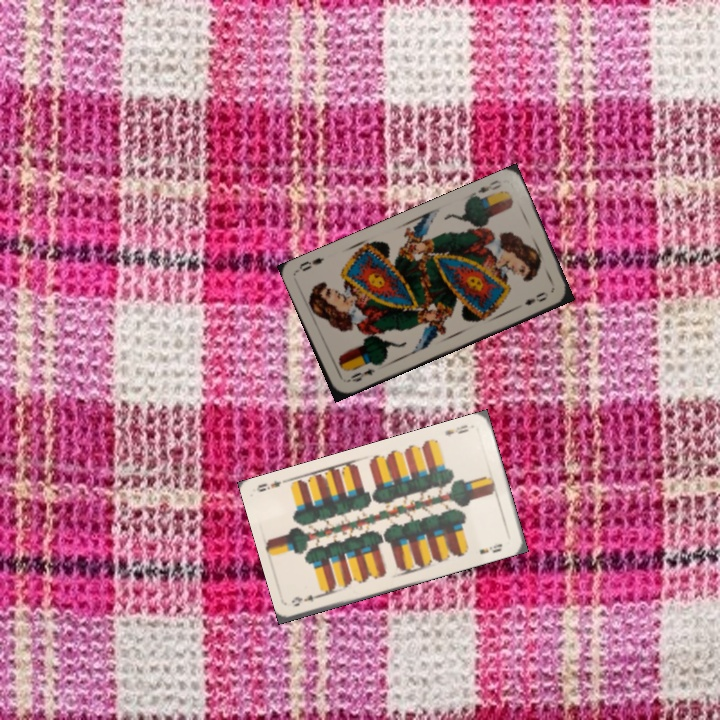E9: (287, 589, 328, 609), (441, 421, 471, 440)
EO: (468, 176, 505, 202), (342, 365, 377, 385)
